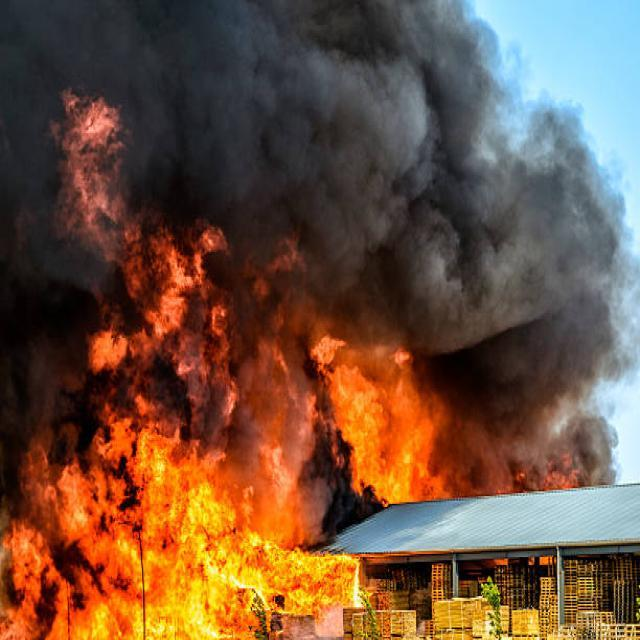Fire: (68, 125, 476, 504), (2, 386, 356, 634)
Smoke: (193, 0, 640, 402), (1, 0, 199, 379), (429, 404, 636, 482)
